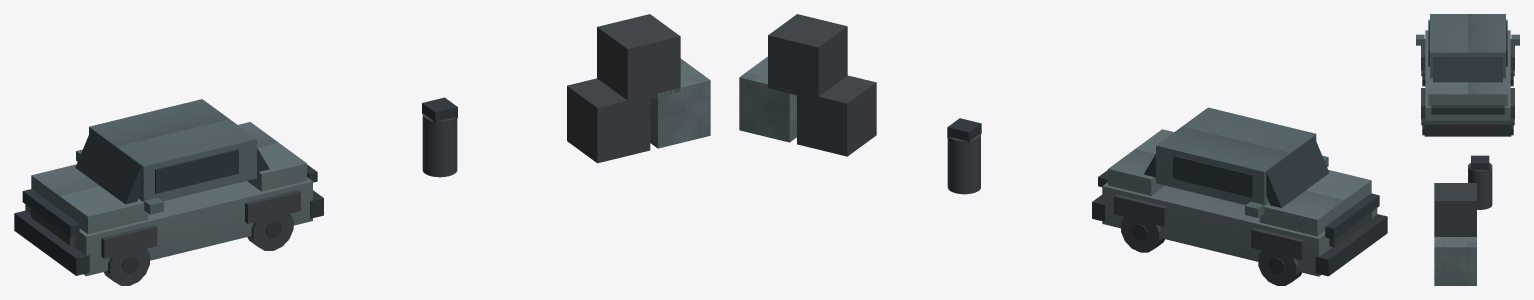
Rendered from decor-props-a.glb.
3 renders of one model, left to right at view 1: azimuth 30°, elevation 25°; view 2: azimuth 150°, elevation 25°; view 3: azimuth 270°, elevation 25°, orthographic. The views are drawn at different scales.
Visible parts, largest first — view 1: DecorPropsA; view 2: DecorPropsA; view 3: DecorPropsA.
Part boxes in pixels (x1,y1,x2,y2): DecorPropsA: (14,14,710,285); DecorPropsA: (739,14,1387,285); DecorPropsA: (1416,14,1519,285).
Bounding box in the file's own units: 0.849 × 0.14 × 0.17.
6 materials, 3 textured.
